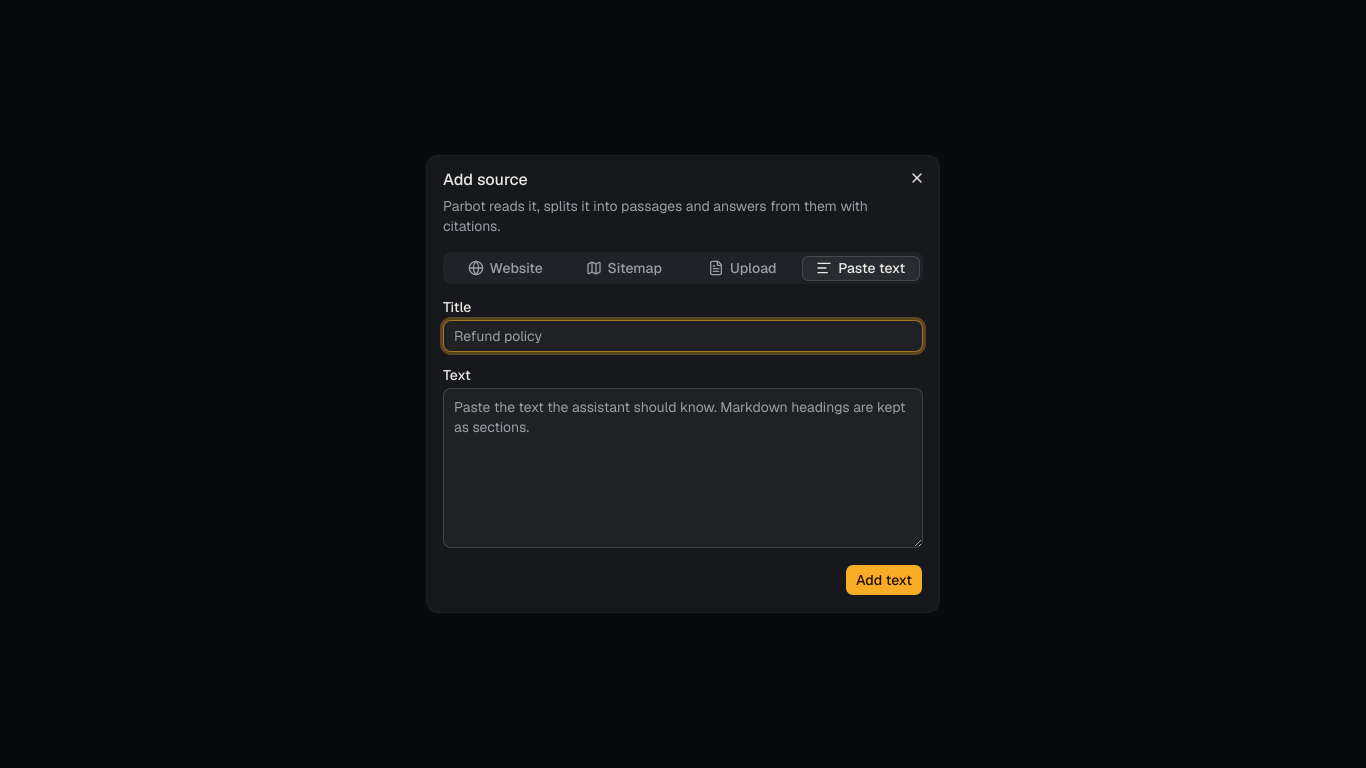
AddSourceDialog › brings the dialog back with the text intact and the reason when the server refuses
Step 1. Type "Refunds" into the field labelled "Title" → (683, 336), box [443,320,923,352]
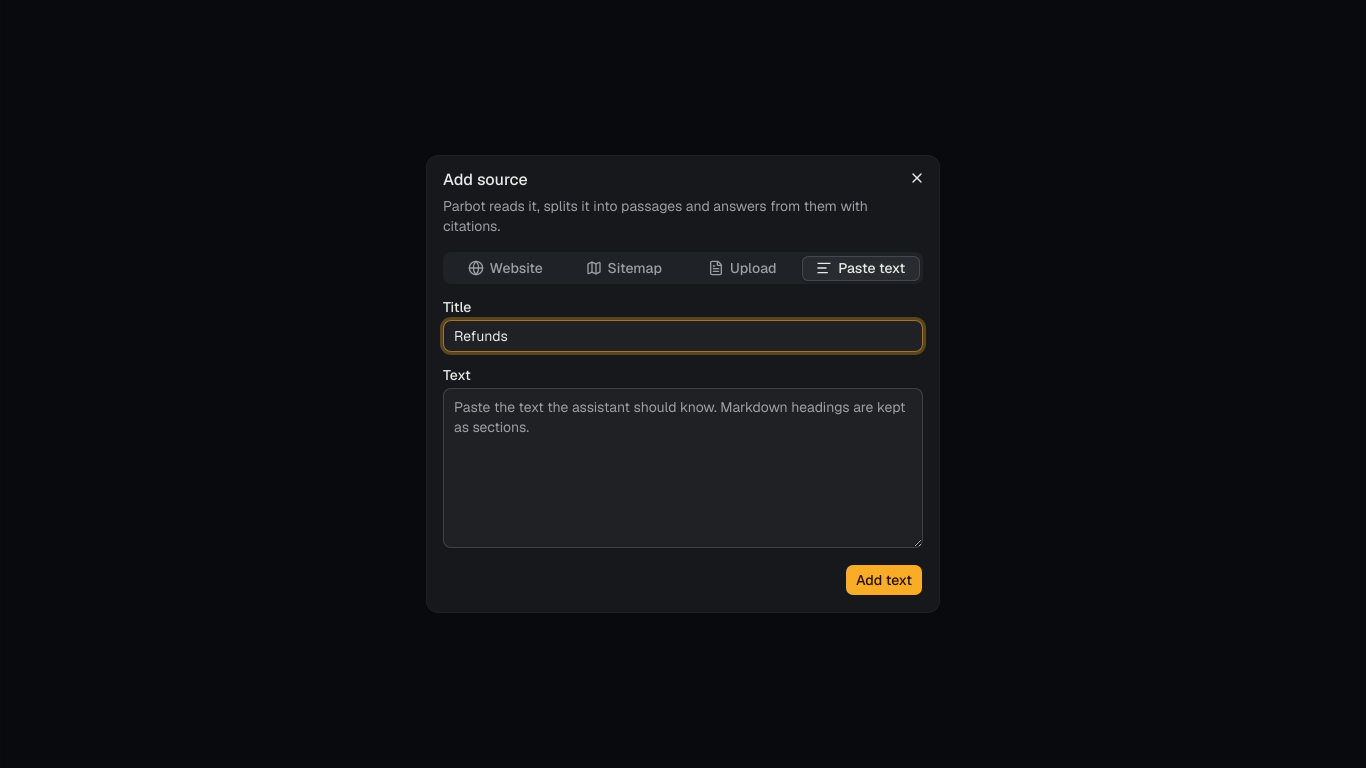
Step 2. Type "Refunds are issued within 30 days." into the text box labelled "Text" → (683, 468), box [443,388,923,548]
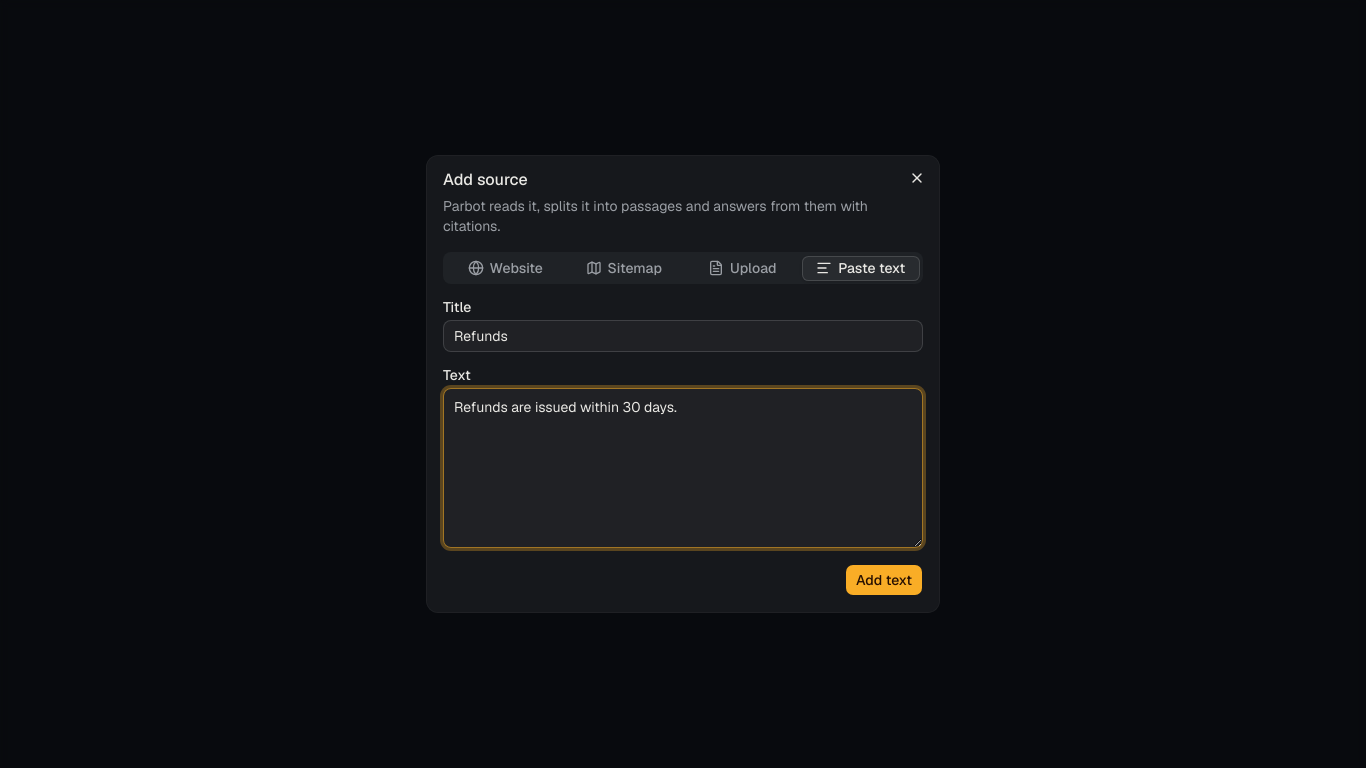
Step 3. Click the button "Add text" → (884, 580), box [845,564,923,596]
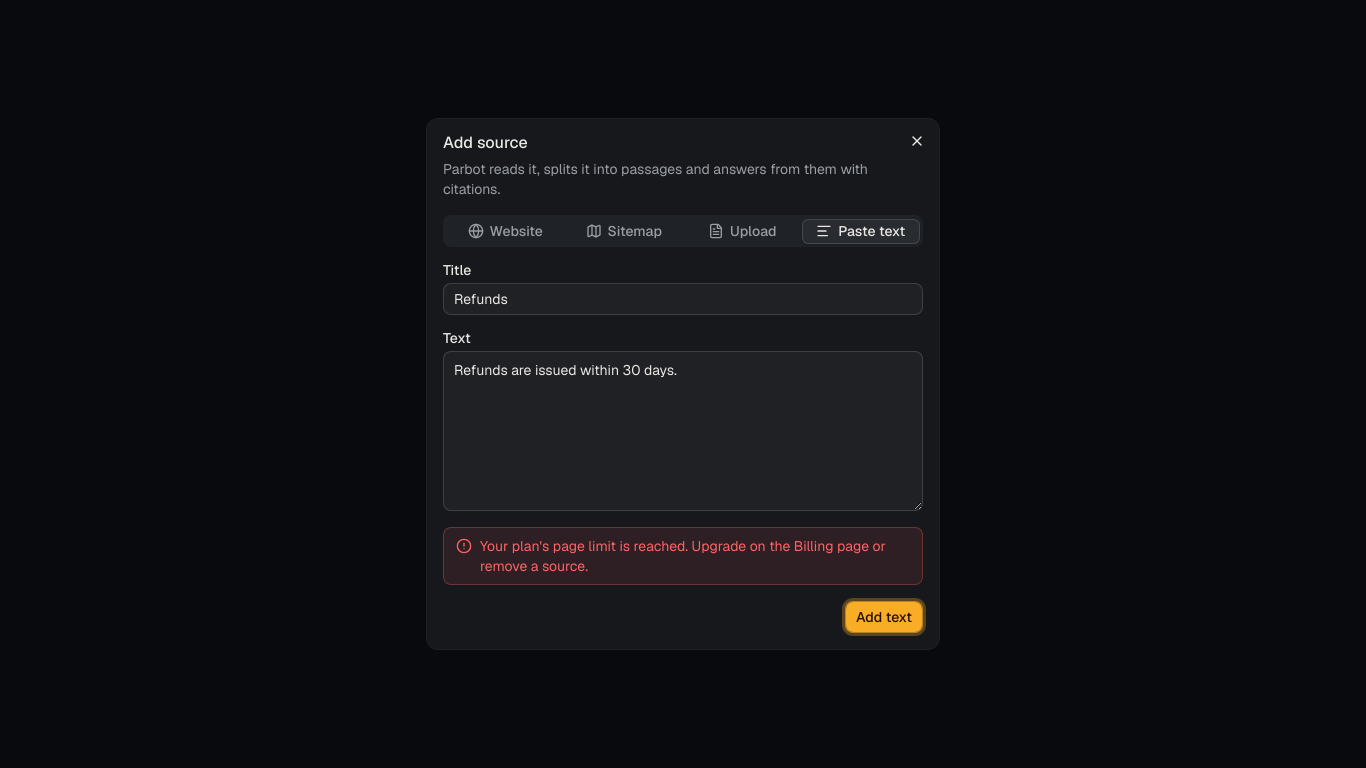
Expected: the message shows "Your plan's page limit is reached.", [480,537,886,575]
